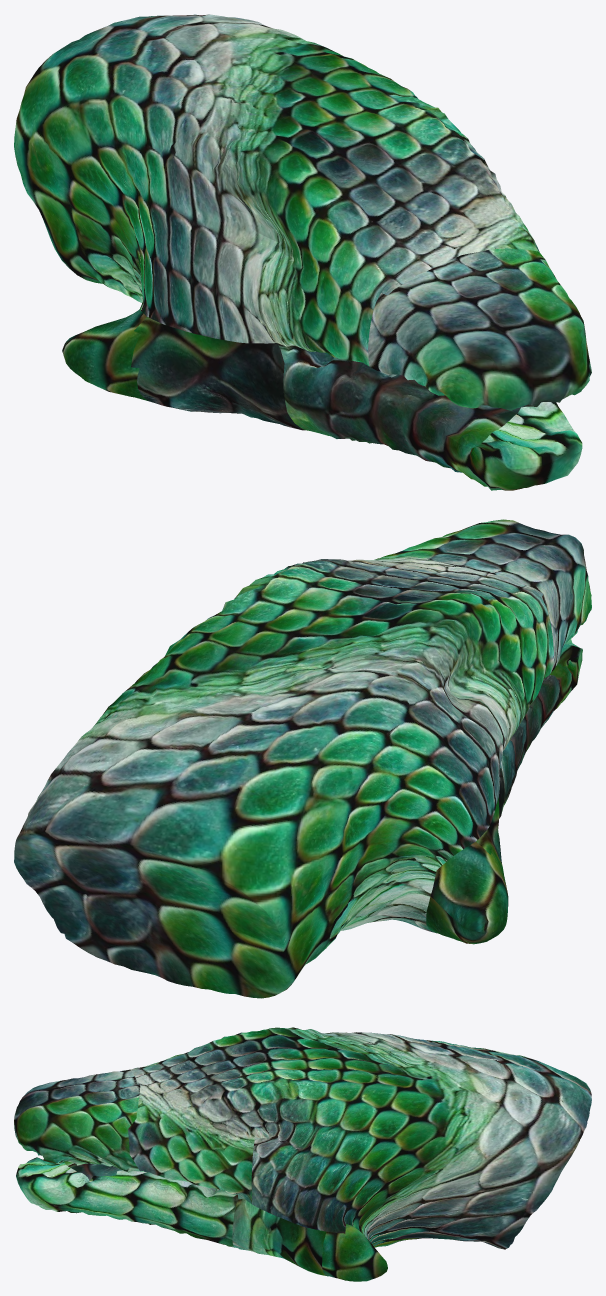
3 renders of one model, top to bottom at view 1: azimuth 30°, elevation 25°; view 2: azimuth 150°, elevation 25°; view 3: azimuth 270°, elevation 25°, orthographic. The views are drawn at different scales.
Visible parts, largest first — view 1: MyGeo; view 2: MyGeo; view 3: MyGeo.
Boxes of the visible parts, x1=… form: MyGeo: x1=14, y1=14, x2=591, y2=490; MyGeo: x1=14, y1=519, x2=591, y2=998; MyGeo: x1=14, y1=1027, x2=591, y2=1281.
Size of the model in its own units: 20.04 by 12.24 by 35.38.
1 material, 1 textured.
